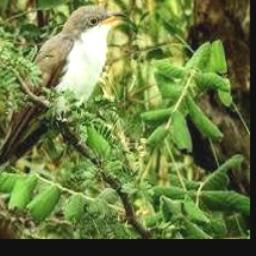Cuckoo: (0, 6, 129, 219)
